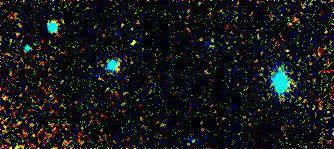star: (114, 29, 144, 59)
